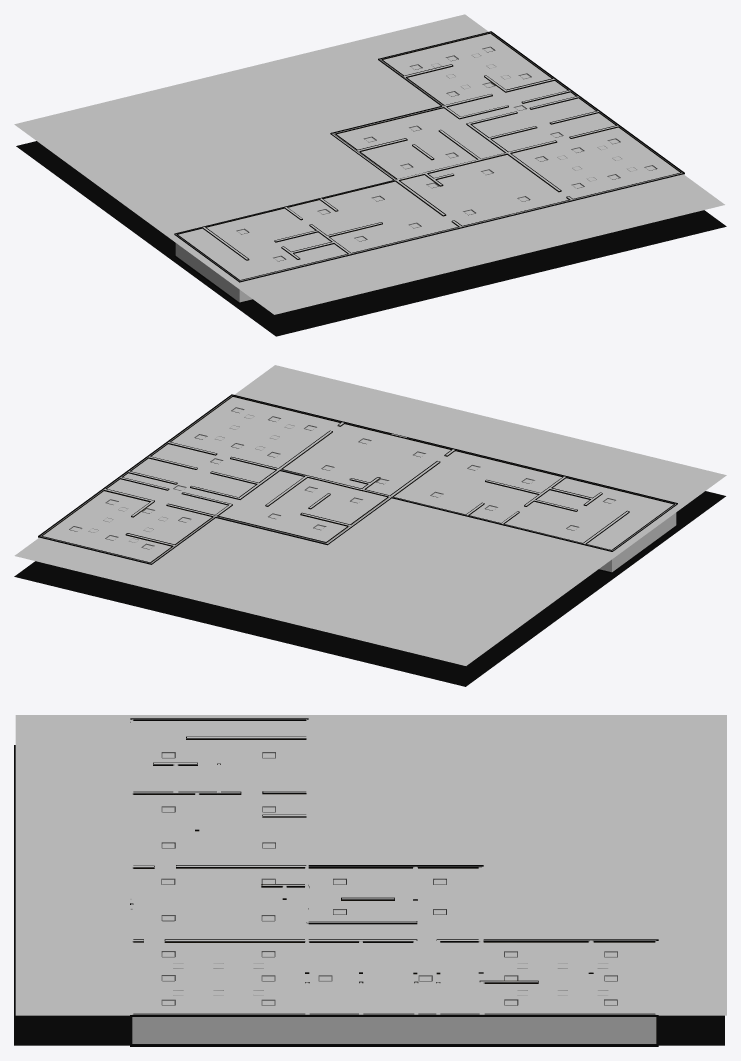
Rendered from Backrooms.fbx.
3 renders of one model, top to bottom at view 1: azimuth 30°, elevation 25°; view 2: azimuth 150°, elevation 25°; view 3: azimuth 270°, elevation 25°, orthographic. The views are drawn at different scales.
Parts seen in each view (by area): view 1: Roof2.002, carpetSquare.001, skirtings.002, outerWalls.002, lights.003; view 2: Roof2.002, carpetSquare.001, skirtings.002, outerWalls.002, lights.003; view 3: Roof2.002, outerWalls.002, skirtings.002, carpetSquare.001, lights.003.
Part boxes in pixels (box(x1,y1,x2,y2)): Roof2.002: box(14, 14, 724, 314); carpetSquare.001: box(16, 141, 726, 336); skirtings.002: box(174, 31, 684, 303); outerWalls.002: box(175, 32, 682, 302); lights.003: box(236, 46, 657, 261); Roof2.002: box(14, 365, 726, 665); carpetSquare.001: box(14, 491, 725, 686); skirtings.002: box(38, 394, 677, 573); outerWalls.002: box(40, 395, 676, 572); lights.003: box(69, 407, 615, 549); Roof2.002: box(15, 715, 726, 1015); outerWalls.002: box(130, 719, 656, 1043); skirtings.002: box(130, 718, 658, 1046); carpetSquare.001: box(14, 745, 724, 1045); lights.003: box(161, 752, 617, 1005).
Size of the model in its own units: 6536 by 323 by 6531.
